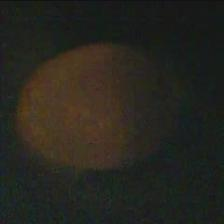fertile: (12, 42, 168, 170)
